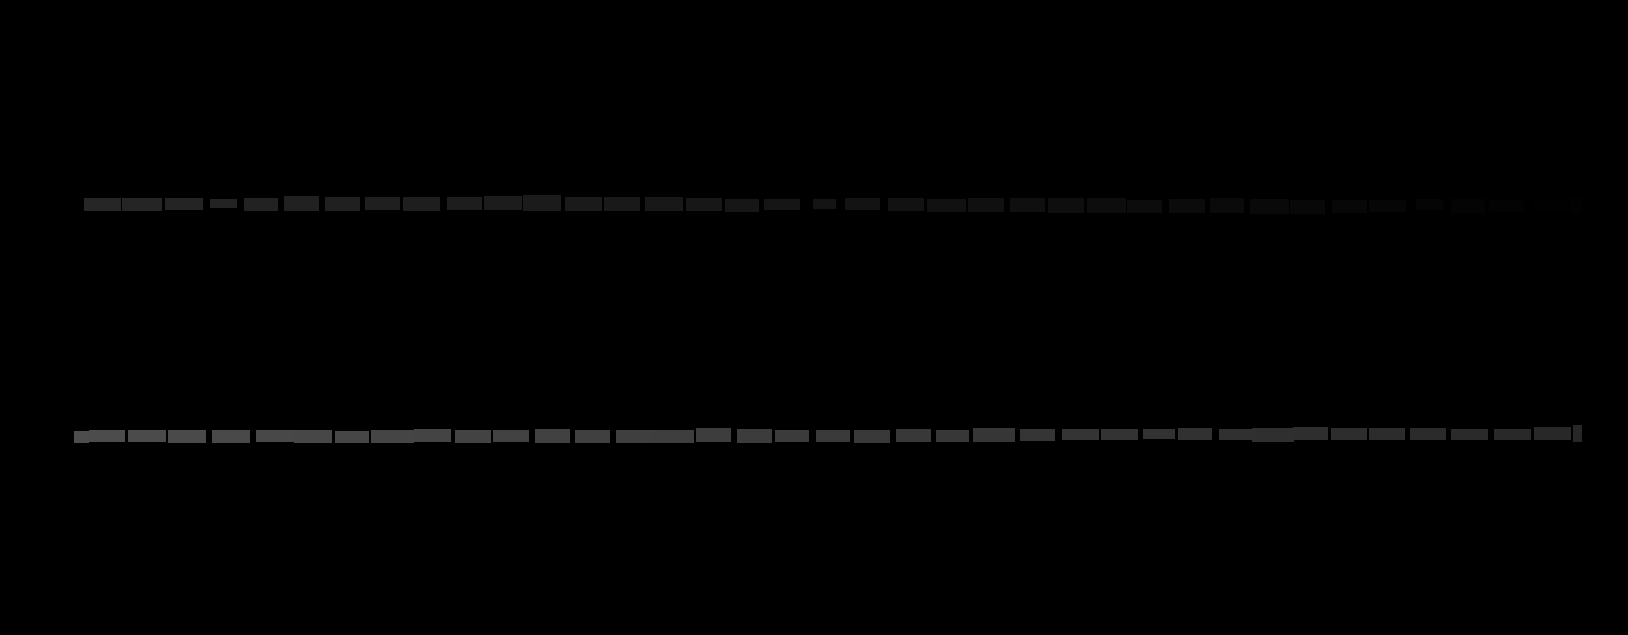light: (973, 427, 1015, 442), (1252, 427, 1294, 442), (371, 430, 414, 443), (523, 195, 561, 211), (1087, 198, 1127, 213), (652, 430, 694, 443), (1250, 199, 1288, 214), (1048, 198, 1084, 213), (645, 197, 683, 211), (484, 196, 522, 210), (294, 430, 332, 443), (212, 430, 250, 443), (737, 429, 772, 443), (696, 427, 731, 442), (535, 429, 570, 443), (565, 197, 602, 211), (403, 197, 440, 211), (168, 430, 206, 443), (1210, 198, 1244, 213), (284, 196, 319, 211), (123, 198, 162, 211), (1169, 199, 1205, 213), (968, 198, 1004, 212), (616, 430, 652, 443), (455, 430, 491, 443), (414, 429, 451, 442), (927, 199, 966, 212), (128, 430, 166, 442), (1290, 200, 1325, 214), (604, 197, 640, 211), (325, 197, 360, 211), (896, 429, 931, 442), (854, 430, 890, 443), (575, 430, 610, 443), (84, 198, 121, 211), (1534, 427, 1571, 440), (256, 430, 294, 442), (1532, 198, 1567, 212), (1010, 198, 1044, 212), (888, 198, 924, 211), (1410, 427, 1446, 440), (1331, 427, 1367, 440), (493, 430, 530, 442), (1451, 199, 1485, 213), (1332, 200, 1367, 213), (1127, 200, 1162, 213), (686, 198, 722, 211), (1369, 427, 1405, 440), (1293, 427, 1328, 440), (1020, 429, 1055, 441), (89, 430, 125, 442), (165, 198, 203, 210), (725, 199, 759, 212), (447, 197, 482, 210), (365, 197, 400, 210), (244, 198, 278, 211), (1494, 429, 1531, 440), (1101, 429, 1138, 440), (816, 430, 850, 442), (775, 430, 809, 442), (1369, 200, 1406, 212), (1451, 429, 1488, 440), (1219, 429, 1255, 440), (1062, 429, 1098, 440), (1178, 427, 1212, 440), (335, 431, 369, 443), (1489, 200, 1524, 212), (845, 198, 880, 210), (937, 430, 969, 442), (764, 199, 801, 210), (1143, 429, 1175, 439), (1416, 199, 1443, 210), (210, 199, 237, 208), (813, 199, 836, 209), (74, 431, 89, 443), (1571, 198, 1582, 213), (1573, 425, 1582, 442)
